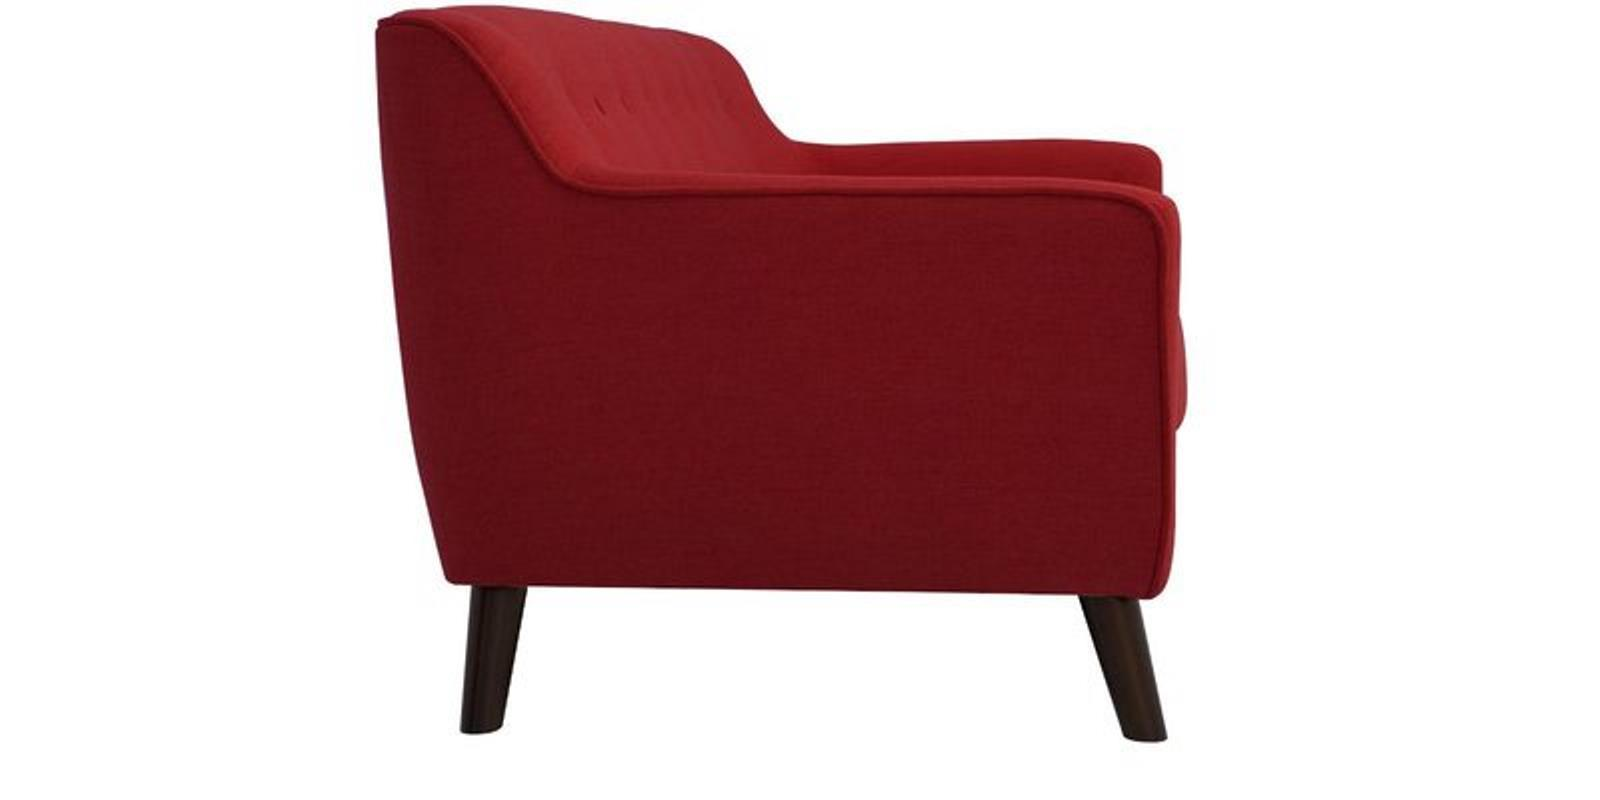Bogota Three Seater Sofa in Red Colour by CasaCraft: (354, 5, 1193, 665)
